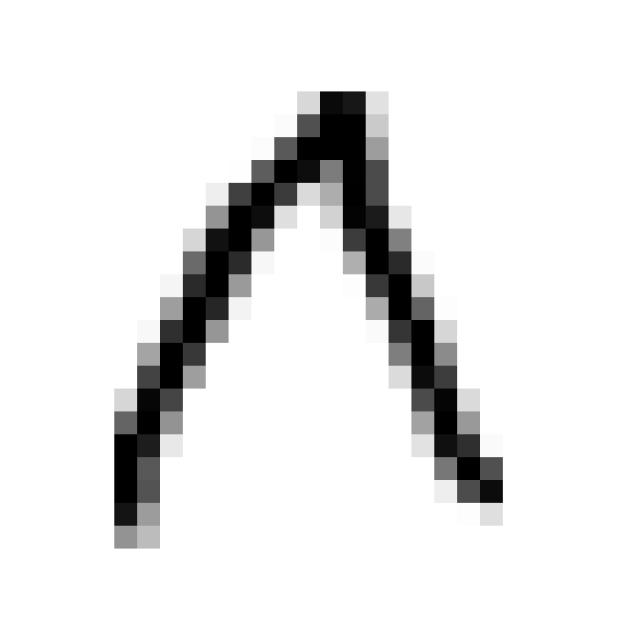8 -eight-: (94, 57, 521, 548)
